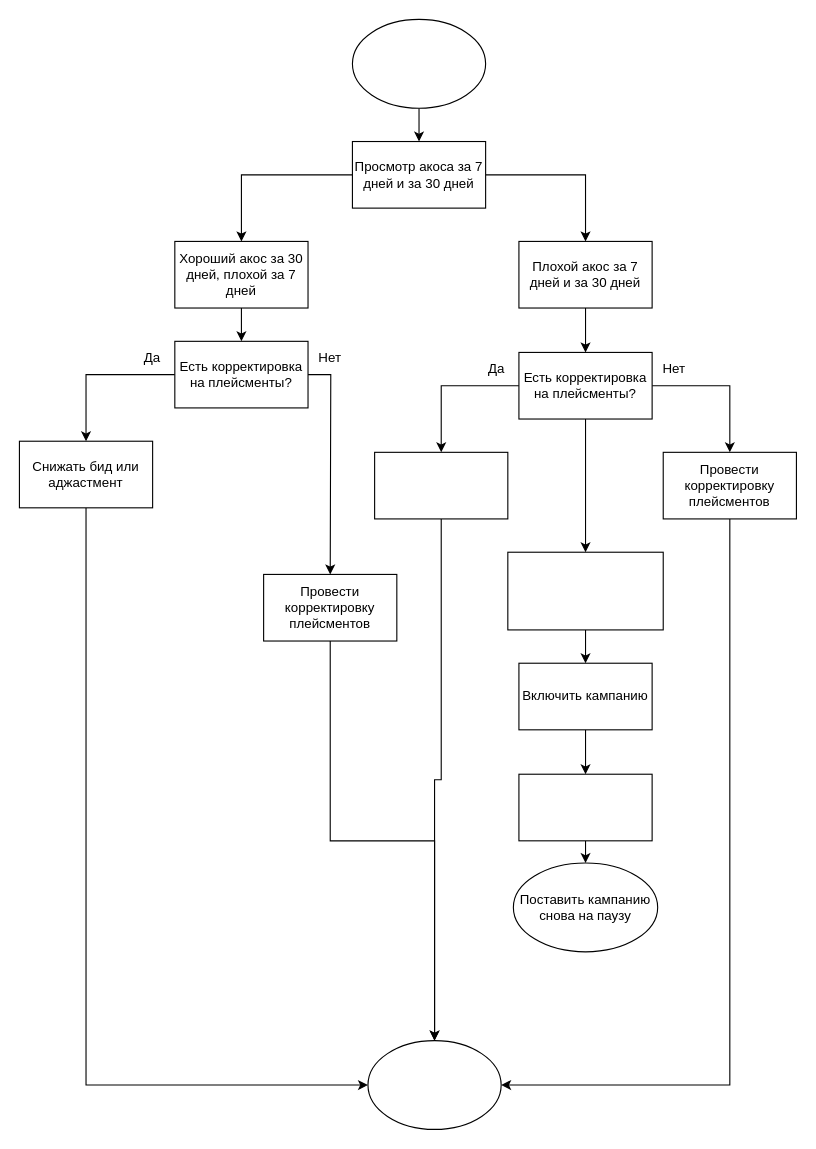
This 816x1149 diagram has some shape labels left out. The shapes that lost their labels are listed below. From the top down, each one's centre as x and y in pixels, then its label:
At [418,63]: "Копирование назв кампании и поиск ее в кабинете".
At [441,485]: "Отключение плохого плейсмента".
At [585,590]: "Корректировка была, все плейсменты протестированы - все работают плохо".
At [585,807]: "Нажать кнопку оптимизацию".
At [434,1084]: "Нажатие кнопки оптимизации в проге по кампании".
